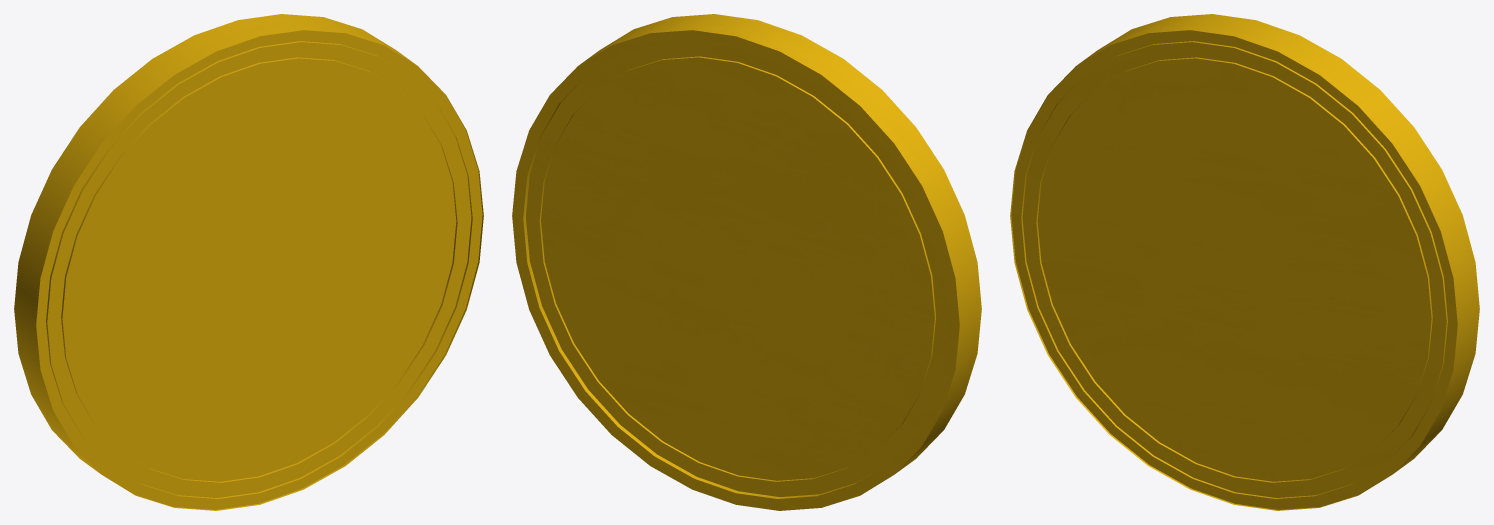
File: coin001.fbx
The picture shows the model from 3 angles, left to right: view 1: azimuth 30°, elevation 25°; view 2: azimuth 150°, elevation 25°; view 3: azimuth 330°, elevation 25°; orthographic projection.
Visible parts, largest first — view 1: Coin; view 2: Coin; view 3: Coin.
Boxes of the visible parts, x1,y1,x2,y2 form: Coin: (14, 14, 483, 510); Coin: (512, 14, 981, 510); Coin: (1010, 14, 1479, 510).
Size of the model in its own units: 200 by 200 by 17.05.
